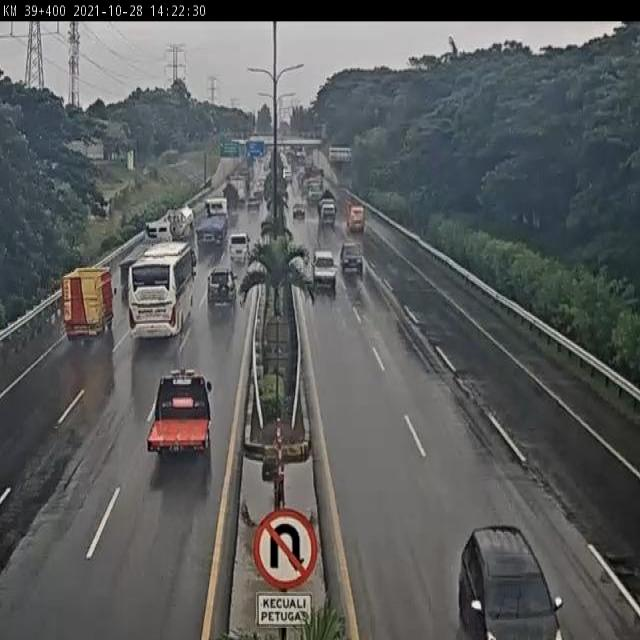Car: (206, 268, 237, 311), (311, 248, 338, 290), (339, 242, 365, 277), (292, 201, 306, 219), (247, 198, 259, 212), (252, 191, 264, 204)
Truck: (146, 368, 216, 458), (60, 262, 118, 340), (117, 218, 180, 280), (194, 196, 233, 247), (166, 205, 196, 243), (318, 187, 338, 224), (220, 182, 241, 212), (346, 202, 366, 233), (228, 173, 247, 203)
Van: (228, 230, 251, 262)
